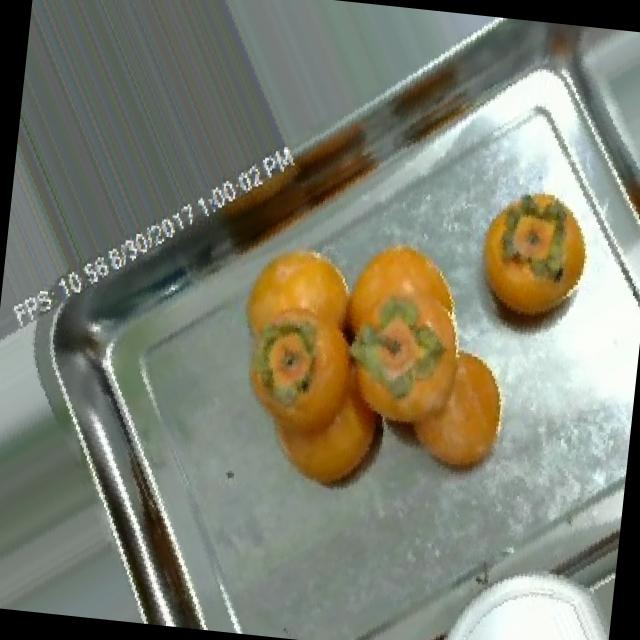Fruit: (215, 314, 421, 518), (450, 158, 620, 367), (358, 310, 534, 502)
